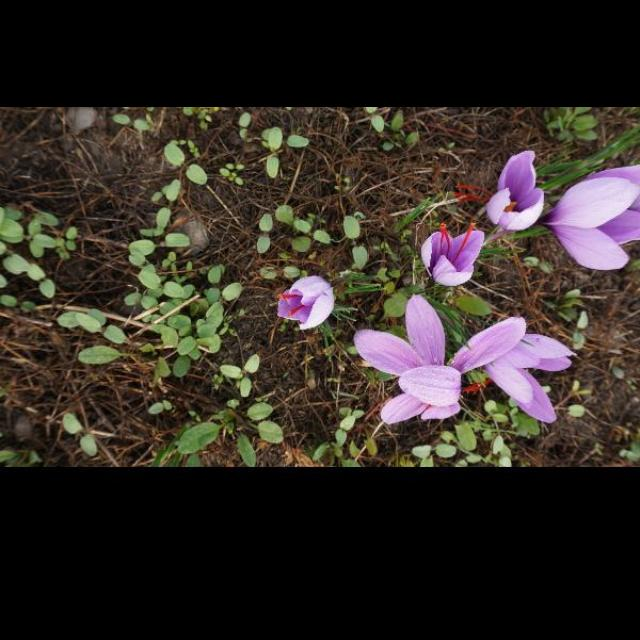flower: (355, 296, 527, 424), (464, 334, 578, 424), (546, 164, 640, 270), (451, 151, 543, 231), (421, 222, 485, 286), (277, 276, 335, 330)
